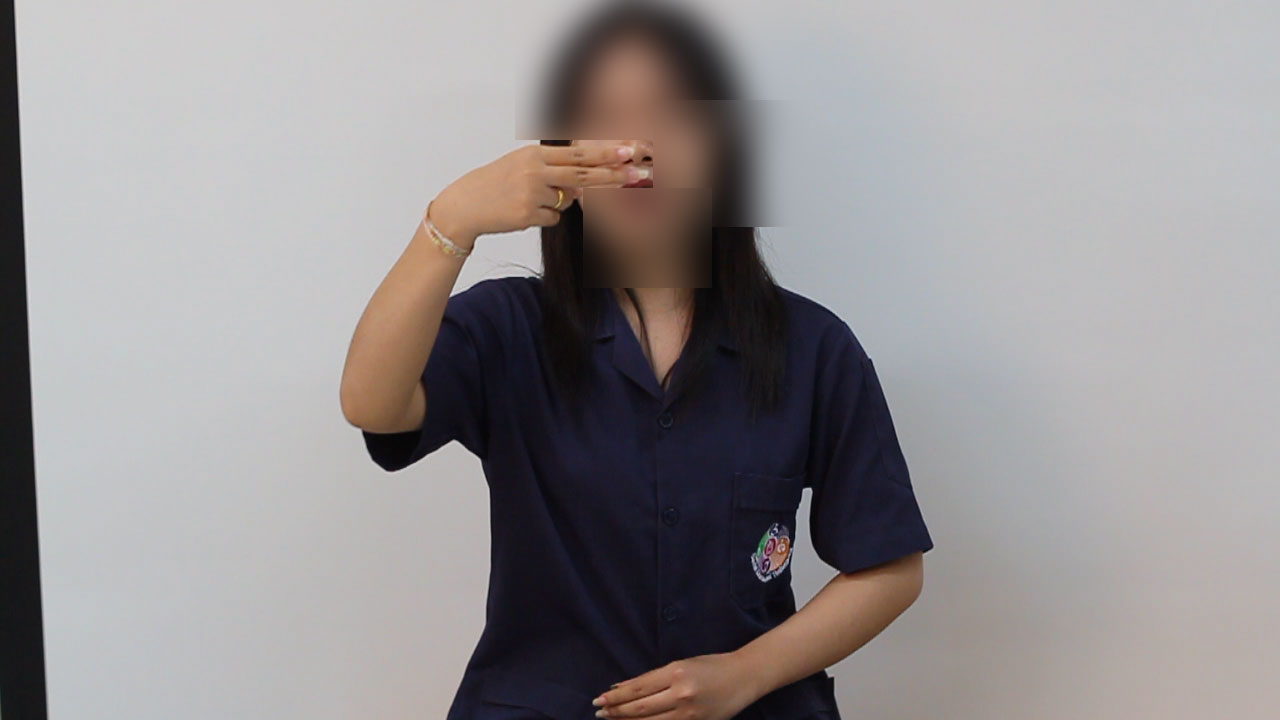hor: (408, 137, 655, 263)
